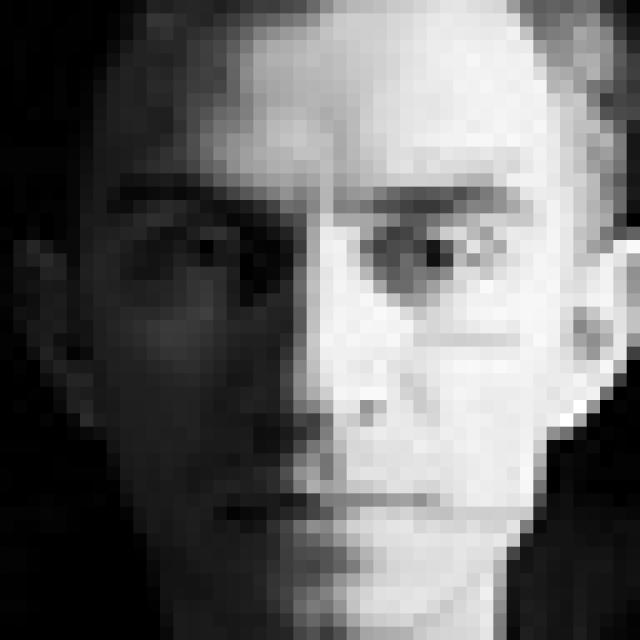neutral: (103, 153, 539, 574)
